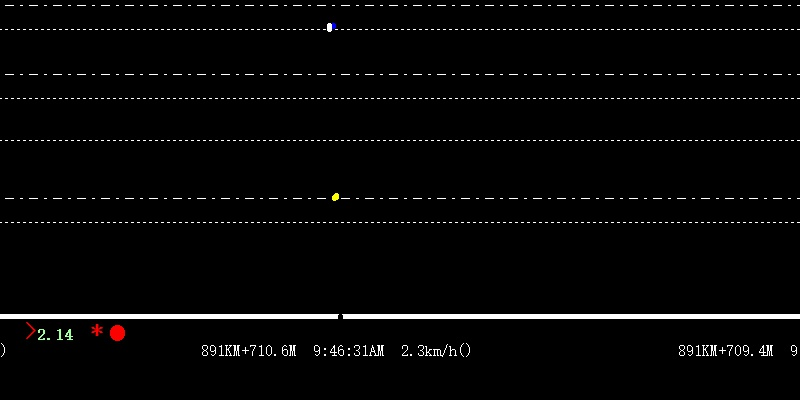circle: (108, 325, 126, 342)
face_s: (326, 18, 335, 35)
star: (90, 321, 103, 337)
